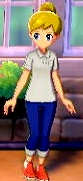woman_no_egg: (1, 1, 82, 180)
